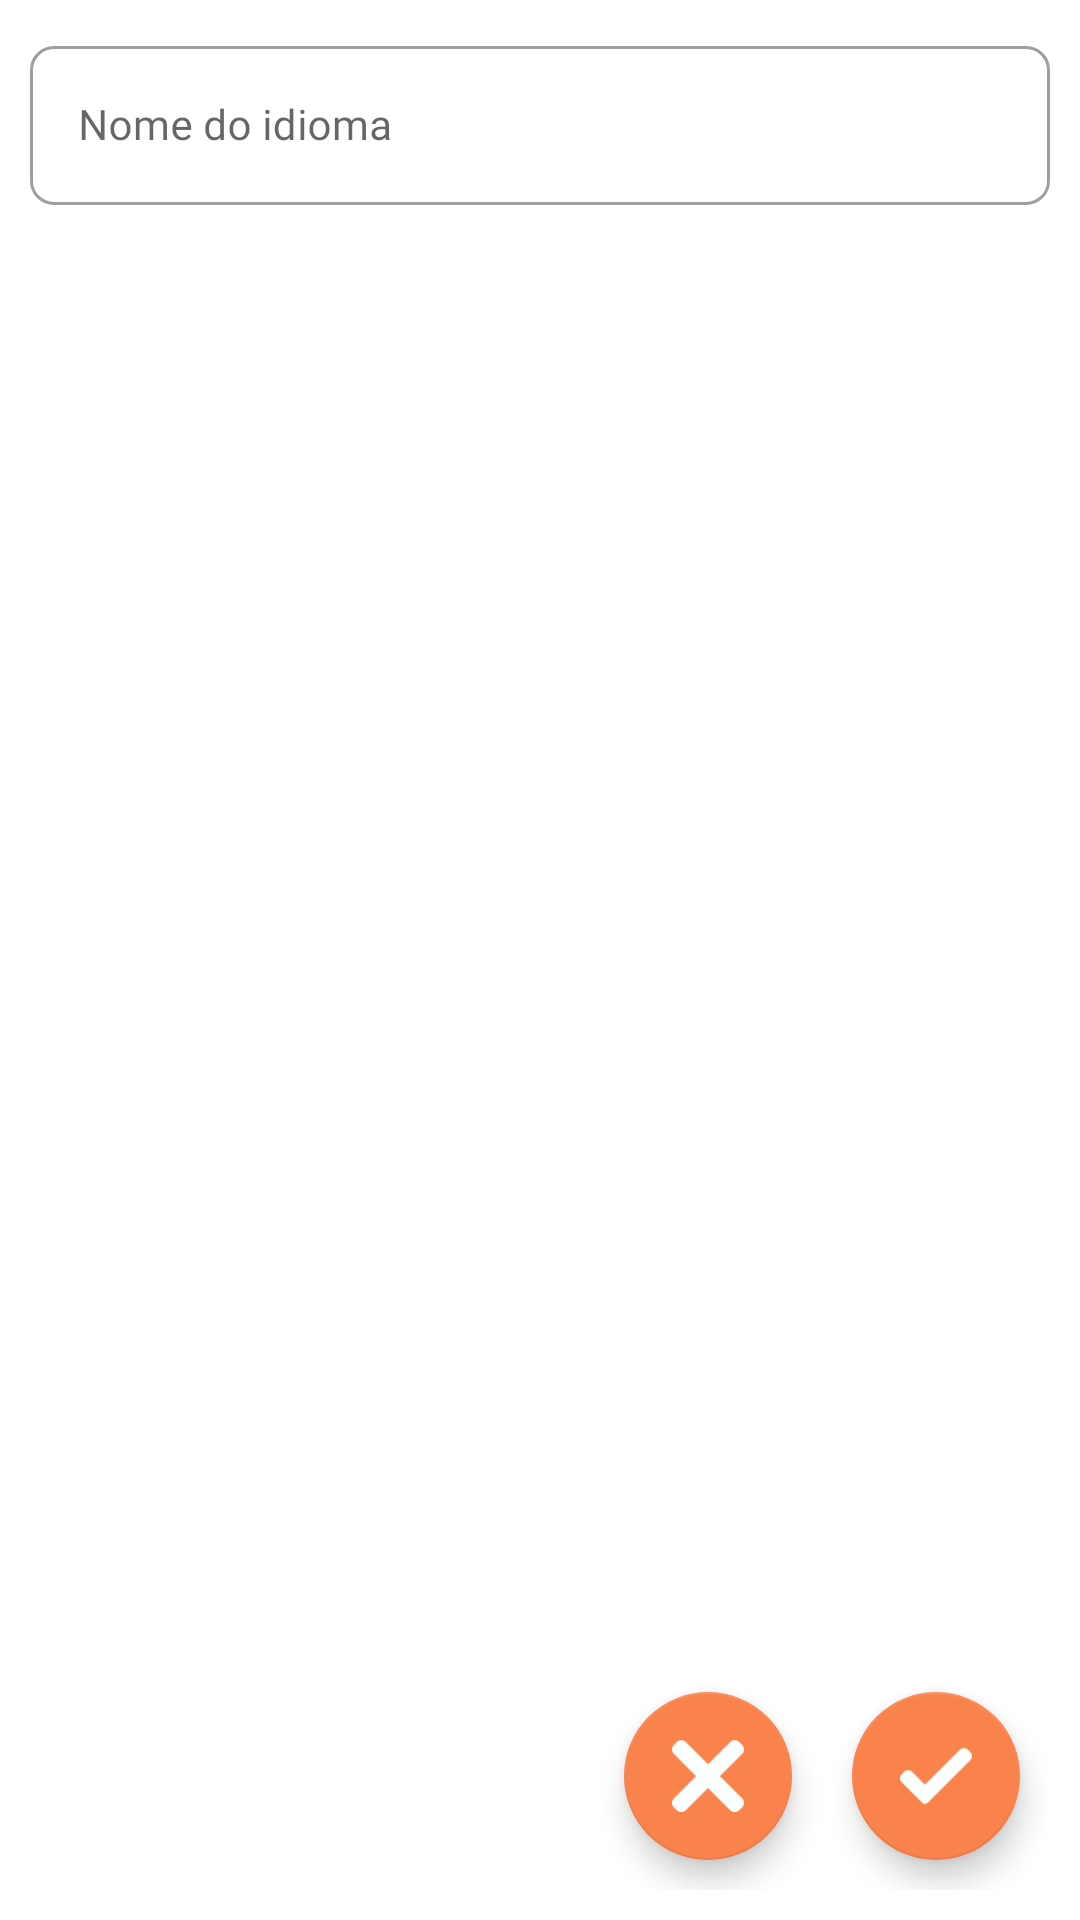

Where to tap for icons on this 1080w x 1920h app screen, as (x,y):
Descartar idioma: (708,1776)
Salvar idioma: (936,1776)
